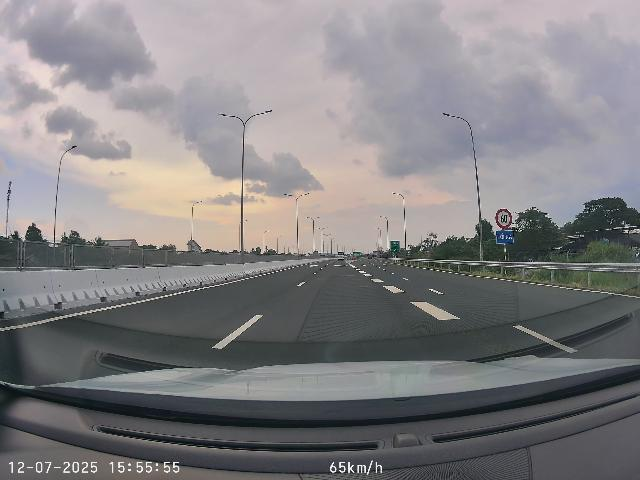127-toc-do-toi-da-60: (495, 208, 512, 229)
